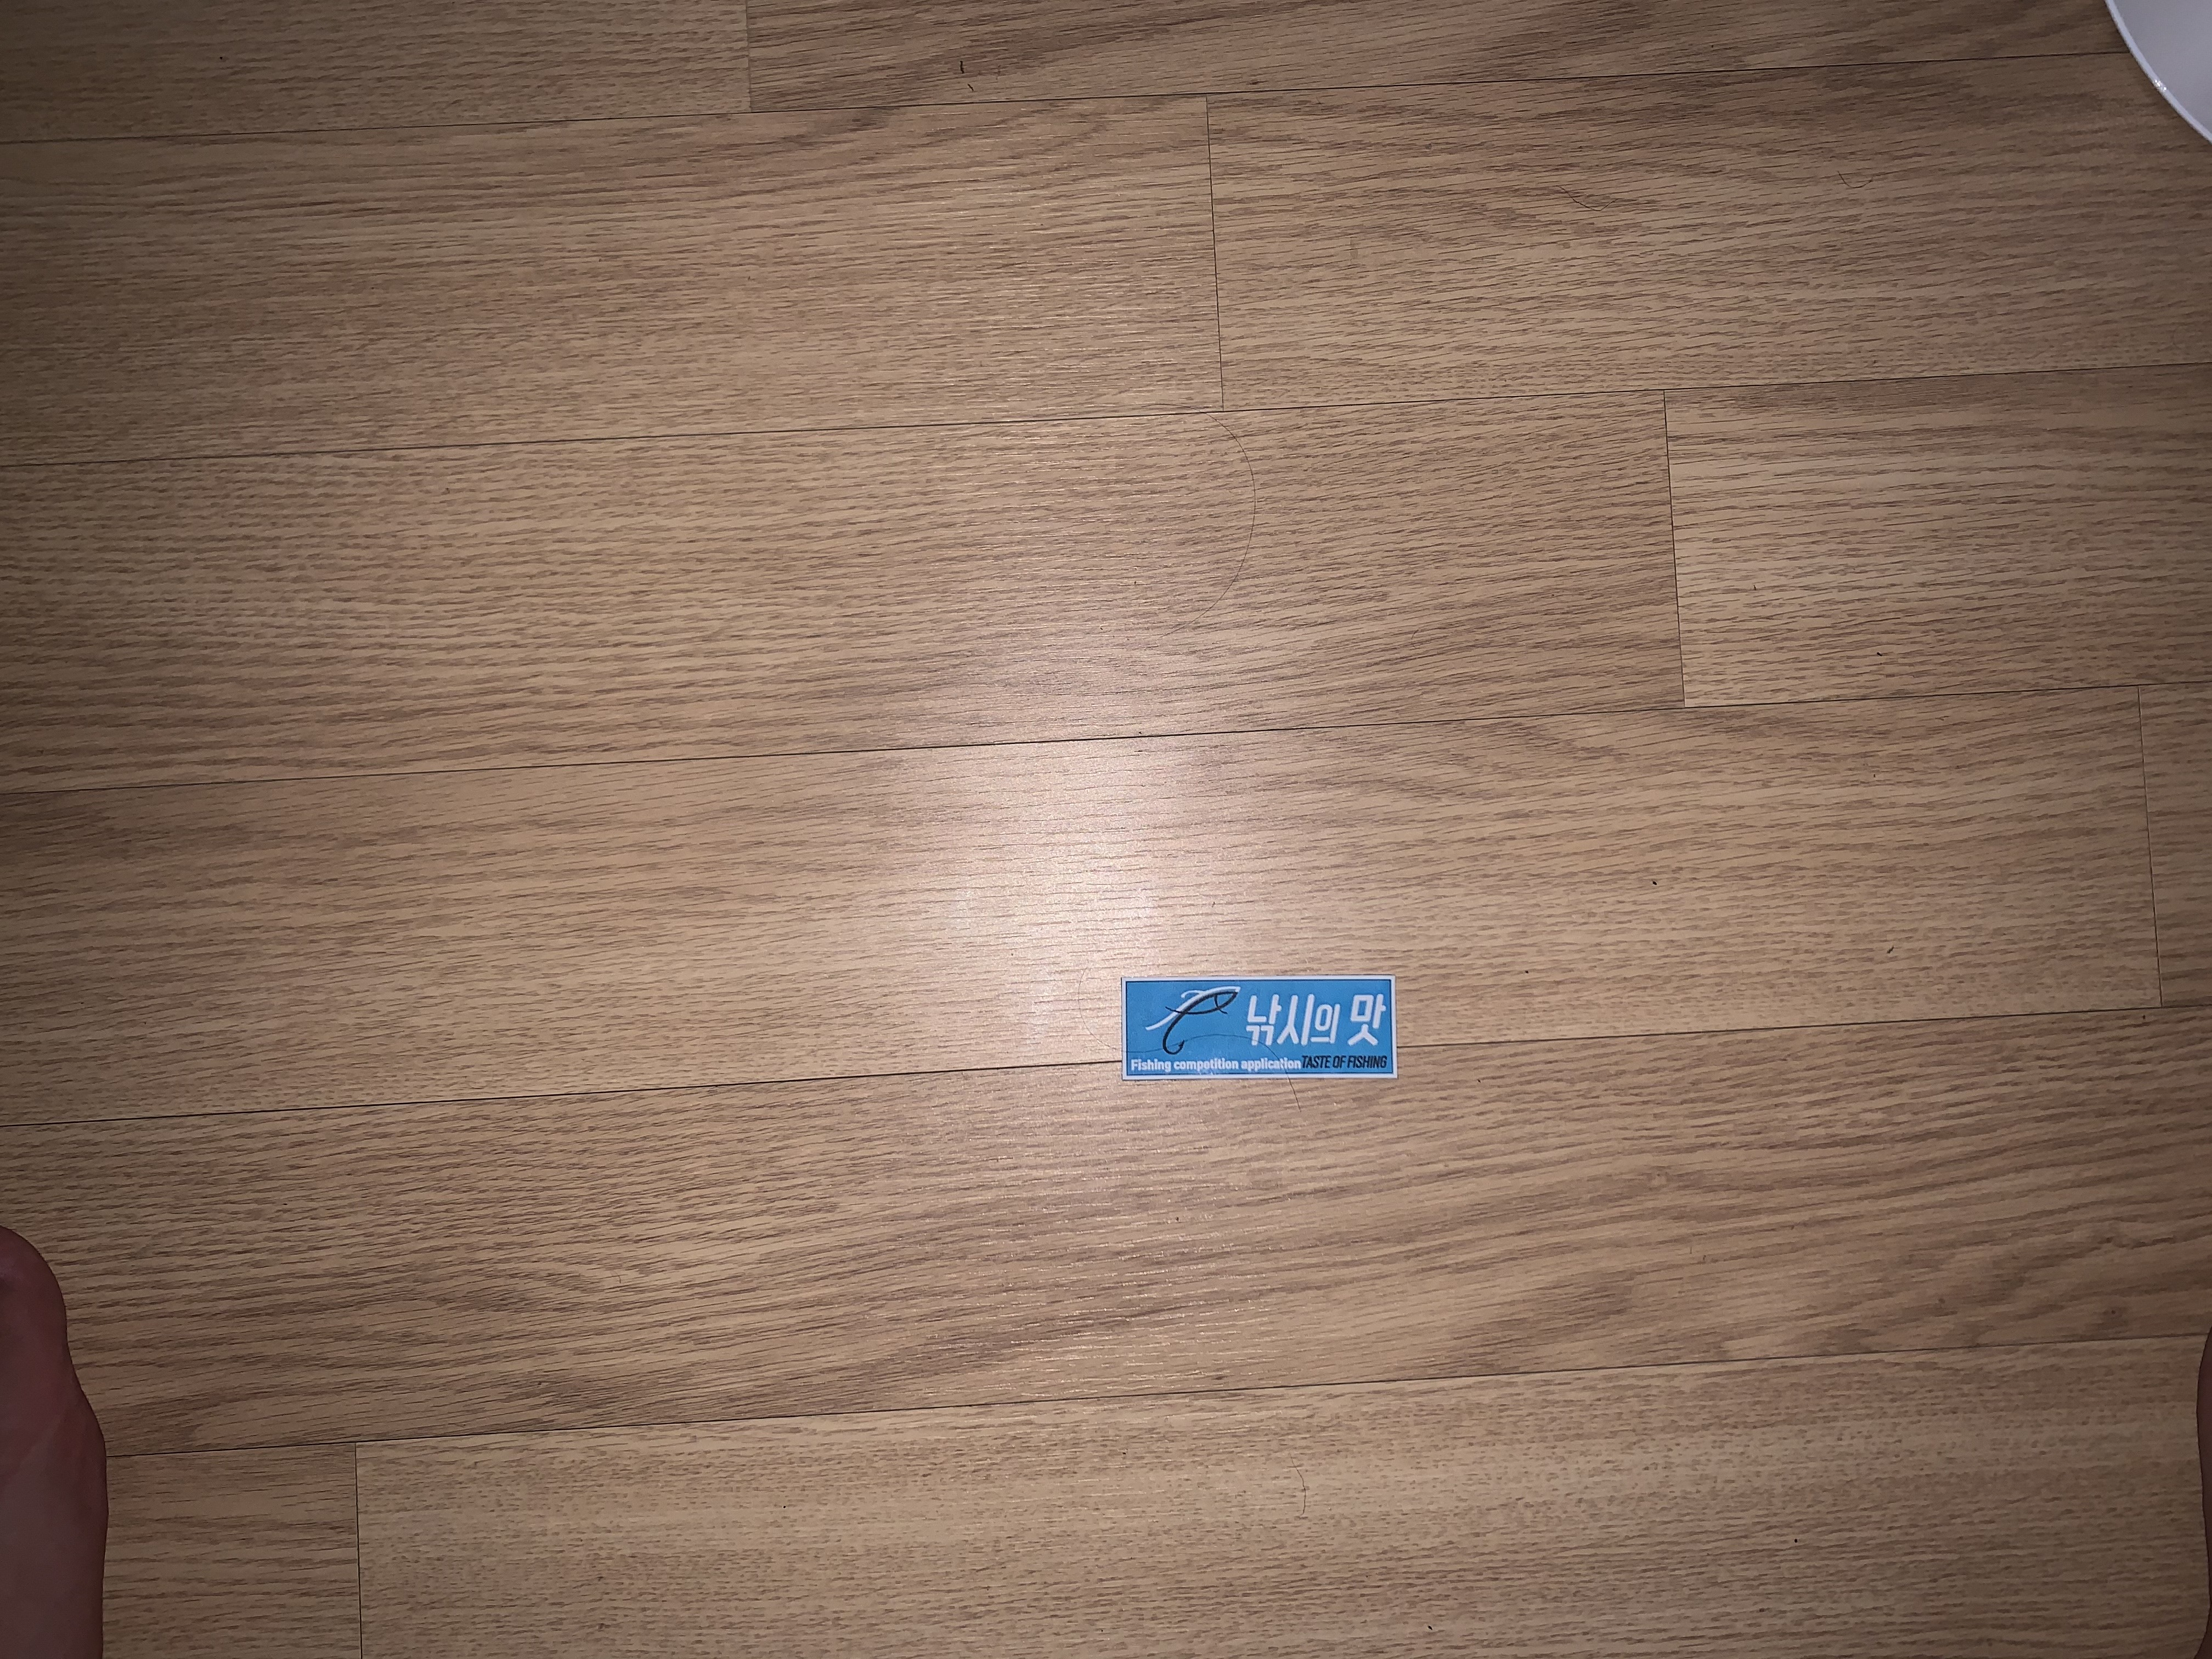tag: (1122, 976, 1400, 1080)
